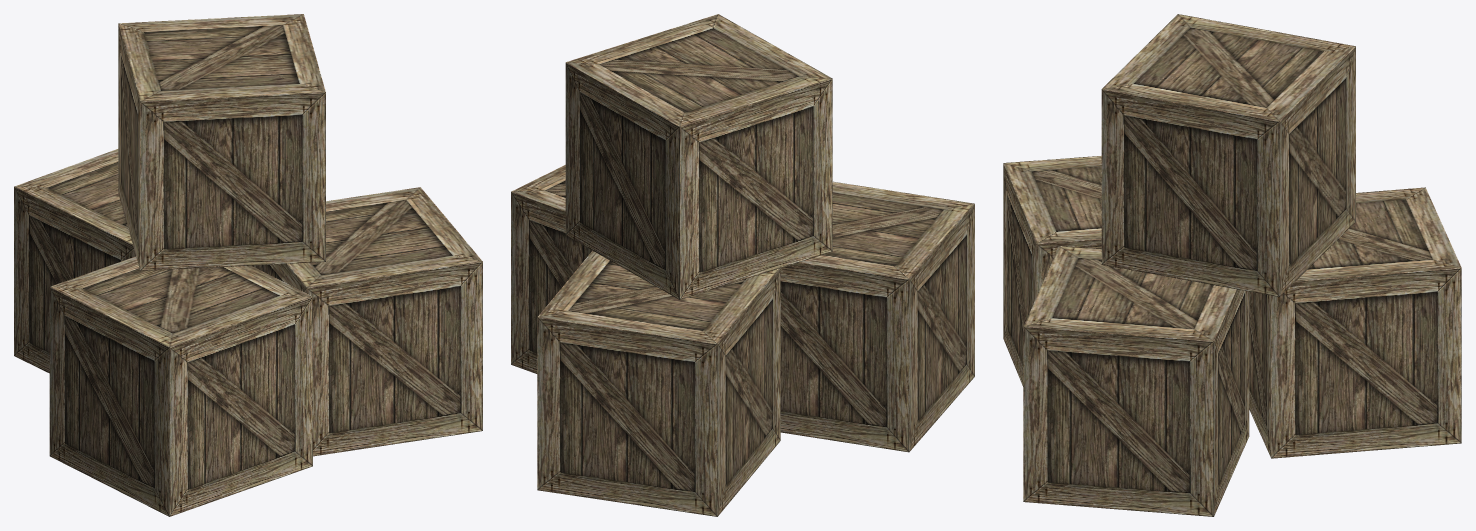
The model's file is crates-normals.obj.
The picture shows the model from 3 angles, left to right: view 1: azimuth 30°, elevation 25°; view 2: azimuth 150°, elevation 25°; view 3: azimuth 270°, elevation 25°; orthographic projection. The views are drawn at different scales.
Visible parts, largest first — view 1: Mesh.003_Mesh.000_Cube.001, Mesh_Mesh.003_Cube.001, Mesh.004_Mesh.001_Cube.001, Mesh.001_Mesh.002_Cube.001; view 2: Mesh_Mesh.003_Cube.001, Mesh.001_Mesh.002_Cube.001, Mesh.003_Mesh.000_Cube.001, Mesh.004_Mesh.001_Cube.001; view 3: Mesh_Mesh.003_Cube.001, Mesh.004_Mesh.001_Cube.001, Mesh.001_Mesh.002_Cube.001, Mesh.003_Mesh.000_Cube.001.
Part boxes in pixels (box(x1,y1,x2,y2)): Mesh.003_Mesh.000_Cube.001: box(49, 256, 312, 516); Mesh_Mesh.003_Cube.001: box(118, 14, 325, 271); Mesh.004_Mesh.001_Cube.001: box(252, 187, 482, 456); Mesh.001_Mesh.002_Cube.001: box(14, 149, 135, 373); Mesh_Mesh.003_Cube.001: box(565, 14, 832, 299); Mesh.001_Mesh.002_Cube.001: box(537, 250, 780, 516); Mesh.003_Mesh.000_Cube.001: box(780, 181, 974, 452); Mesh.004_Mesh.001_Cube.001: box(511, 165, 592, 373); Mesh_Mesh.003_Cube.001: box(1101, 14, 1355, 296); Mesh.004_Mesh.001_Cube.001: box(1023, 246, 1249, 516); Mesh.001_Mesh.002_Cube.001: box(1249, 187, 1461, 458); Mesh.003_Mesh.000_Cube.001: box(1003, 156, 1101, 386).
Size of what is drawn, in the model's own units: 4.7 by 4.01 by 4.73.
1 material, 1 textured.
